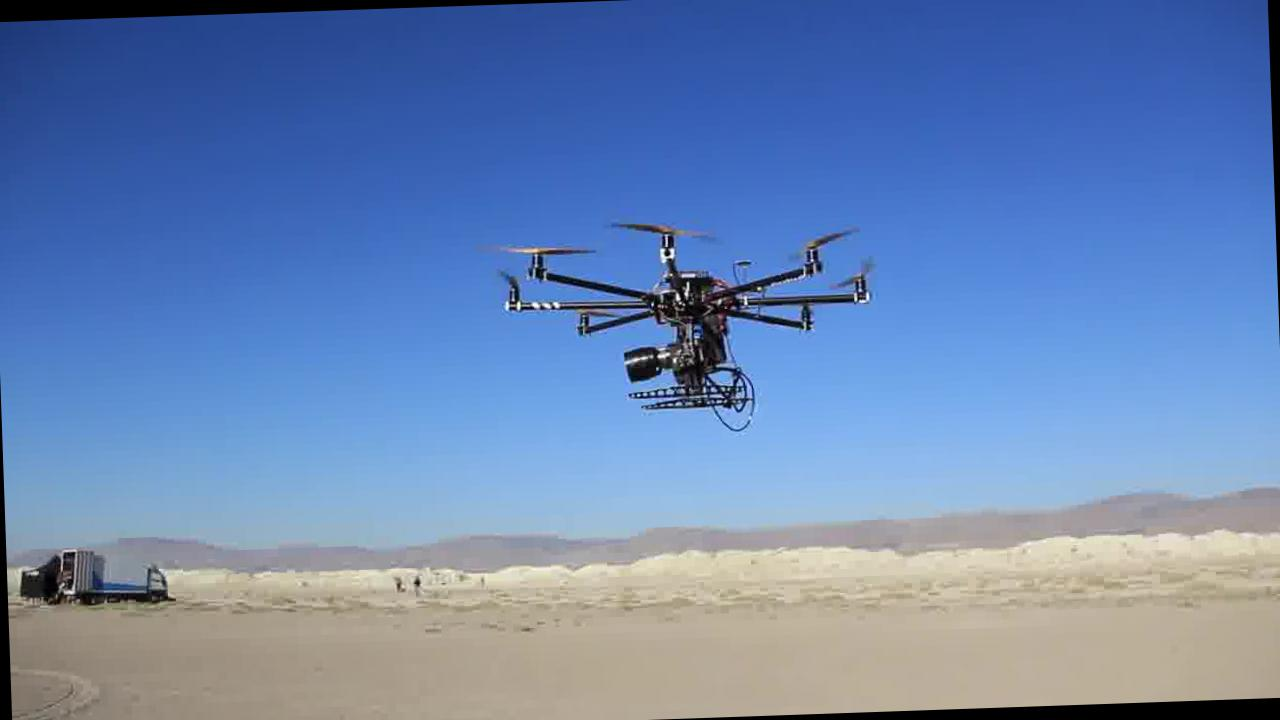drone: (479, 204, 886, 428)
